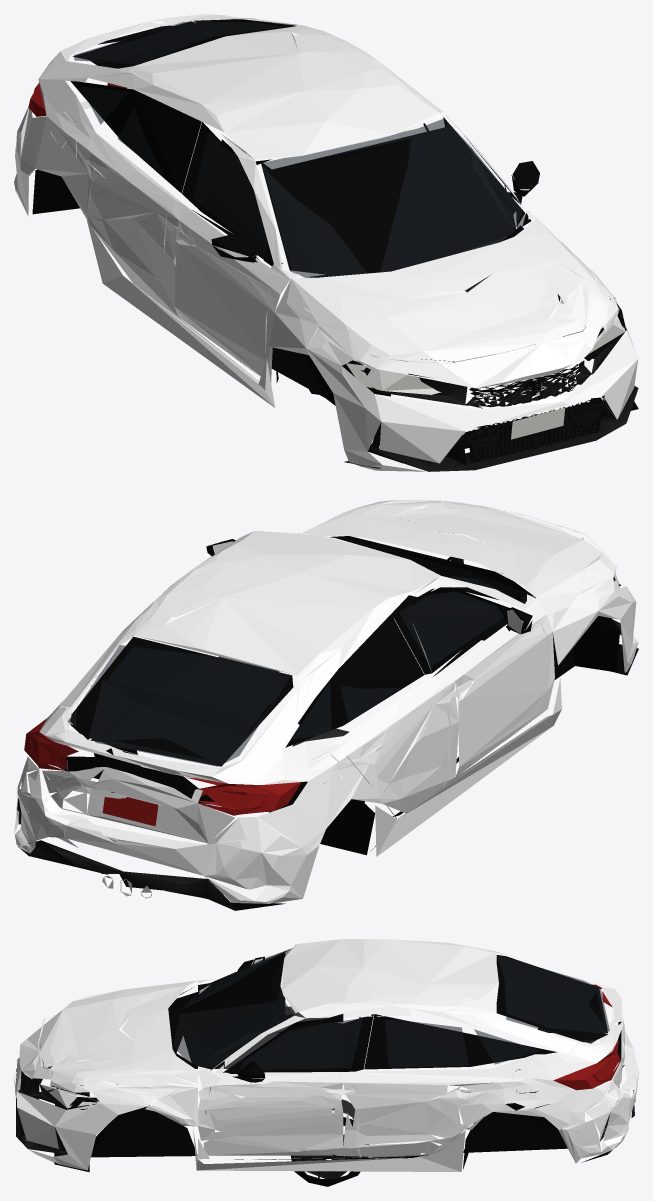
Rendered from civic_far.glb.
3 renders of one model, top to bottom at view 1: azimuth 30°, elevation 25°; view 2: azimuth 150°, elevation 25°; view 3: azimuth 270°, elevation 25°, orthographic. The views are drawn at different scales.
Visible parts, largest first — view 1: body_paint, body_trim, body_glass, doorR_paint, doorR_glass, doorR_trim, body_head, doorL_trim, doorL_glass; view 2: body_paint, body_trim, body_glass, doorR_paint, doorR_trim, body_brake, doorR_glass; view 3: body_paint, body_trim, body_glass, doorL_paint, doorL_trim, doorL_glass, body_brake, wheel_tyre, doorR_trim, body_head.
Part boxes in pixels (x1,y1,x2,y2): body_paint: [14, 14, 638, 471]; body_trim: [32, 19, 638, 471]; body_glass: [74, 19, 514, 276]; doorR_paint: [171, 134, 299, 389]; doorR_glass: [193, 132, 316, 277]; doorR_trim: [191, 139, 299, 382]; body_head: [346, 298, 625, 439]; doorL_trim: [443, 117, 539, 292]; doorL_glass: [471, 147, 525, 227]; body_paint: [14, 500, 638, 903]; body_trim: [17, 532, 638, 910]; body_glass: [68, 576, 507, 766]; doorR_paint: [413, 576, 561, 776]; doorR_trim: [407, 574, 532, 676]; body_brake: [24, 718, 301, 826]; doorR_glass: [399, 577, 516, 666]; body_paint: [15, 939, 638, 1171]; body_trim: [15, 952, 634, 1172]; body_glass: [173, 949, 609, 1067]; doorL_paint: [198, 1015, 354, 1159]; doorL_trim: [199, 1014, 343, 1113]; doorL_glass: [198, 1018, 362, 1070]; body_brake: [553, 984, 622, 1090]; wheel_tyre: [291, 1099, 369, 1186]; doorR_trim: [198, 948, 337, 1068]; body_head: [14, 1076, 100, 1108].
Bounding box in the file's own units: 2.03 × 1.7 × 4.55.
